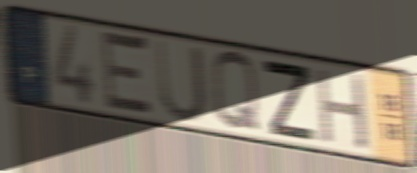4: (51, 22, 99, 109)
E: (100, 26, 157, 123)
H: (314, 64, 371, 153)
Q: (208, 47, 264, 136)
U: (152, 36, 210, 126)
Z: (259, 56, 318, 145)
